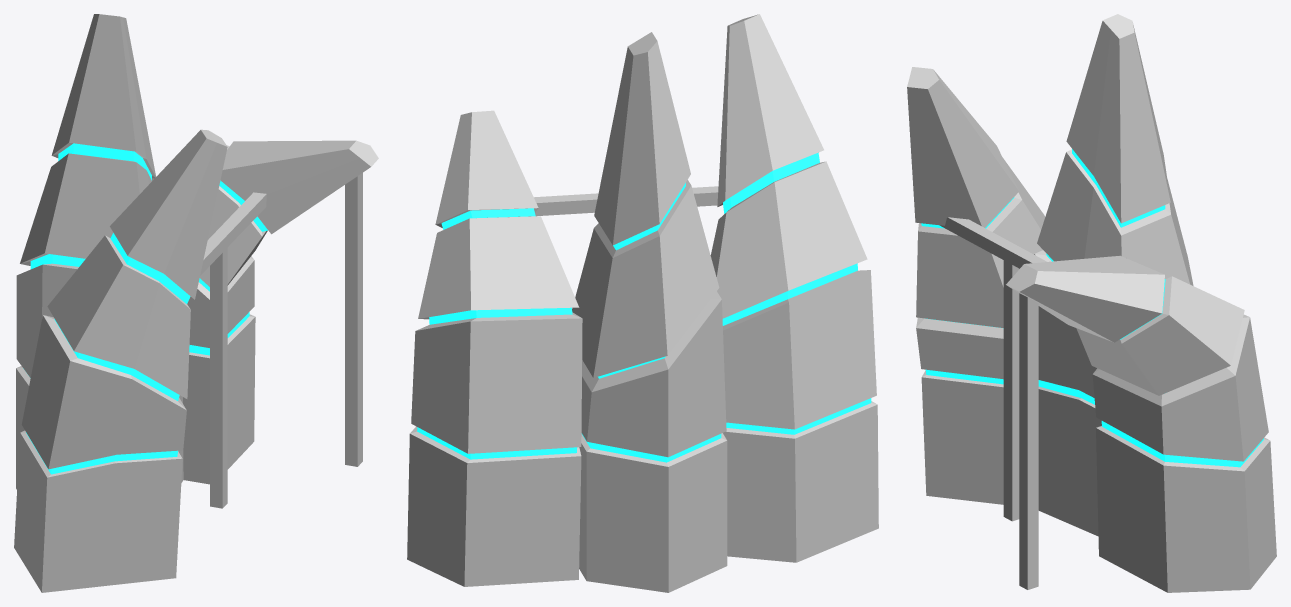
File: Gedung 6.fbx
3 views of the same model, side by side, from view 1: azimuth 30°, elevation 25°; view 2: azimuth 150°, elevation 25°; view 3: azimuth 270°, elevation 25° (orthographic). The views are drawn at different scales.
Visible parts, largest first — view 1: Cube.030; view 2: Cube.030; view 3: Cube.030.
Boxes of the visible parts, bbox=[...] form: Cube.030: bbox=[14, 14, 378, 592]; Cube.030: bbox=[407, 14, 878, 592]; Cube.030: bbox=[907, 14, 1276, 592].
Bounding box in the file's own units: 198 × 254 × 173.
